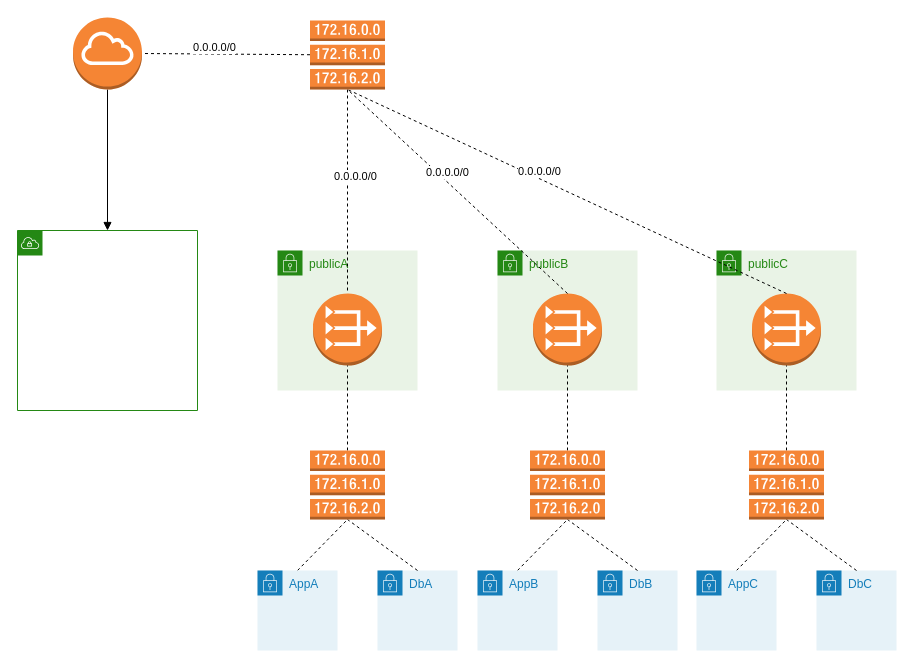
The diagram is 914 pixels wide and 668 high, and some of its shapes have lost their labels. The shapes that lost their labels are listed below. From the top down, each one's box as (x1, y1, x2, y2) in pixels, then its label:
(309, 20, 385, 90): MyPublicRoute
(16, 230, 198, 410): VPC
(309, 450, 385, 520): MyPrivateRouteA
(529, 450, 605, 520): MyPrivateRouteB
(748, 450, 824, 520): MyPrivateRouteC
